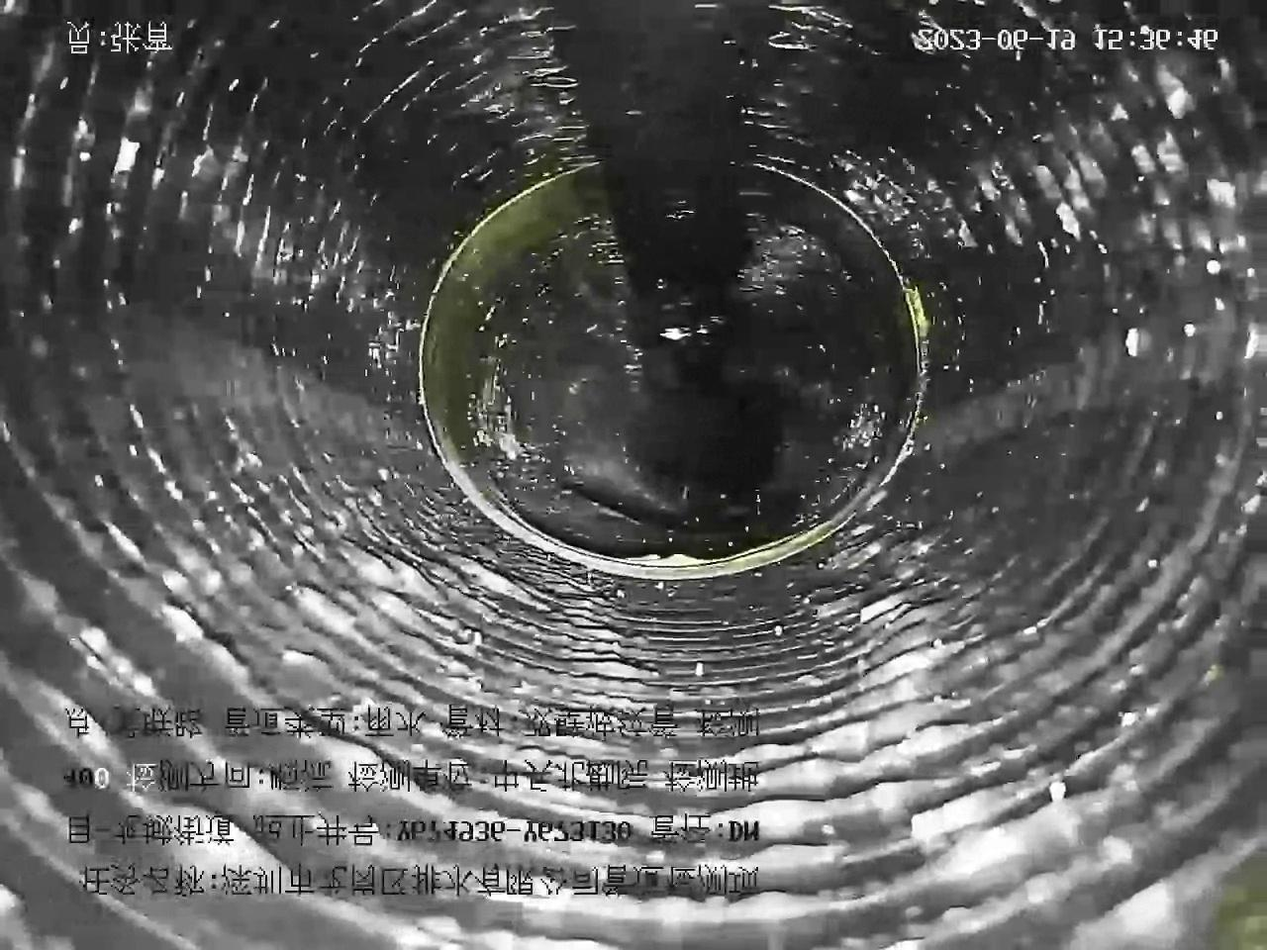CKTJ: (418, 327, 849, 581)
